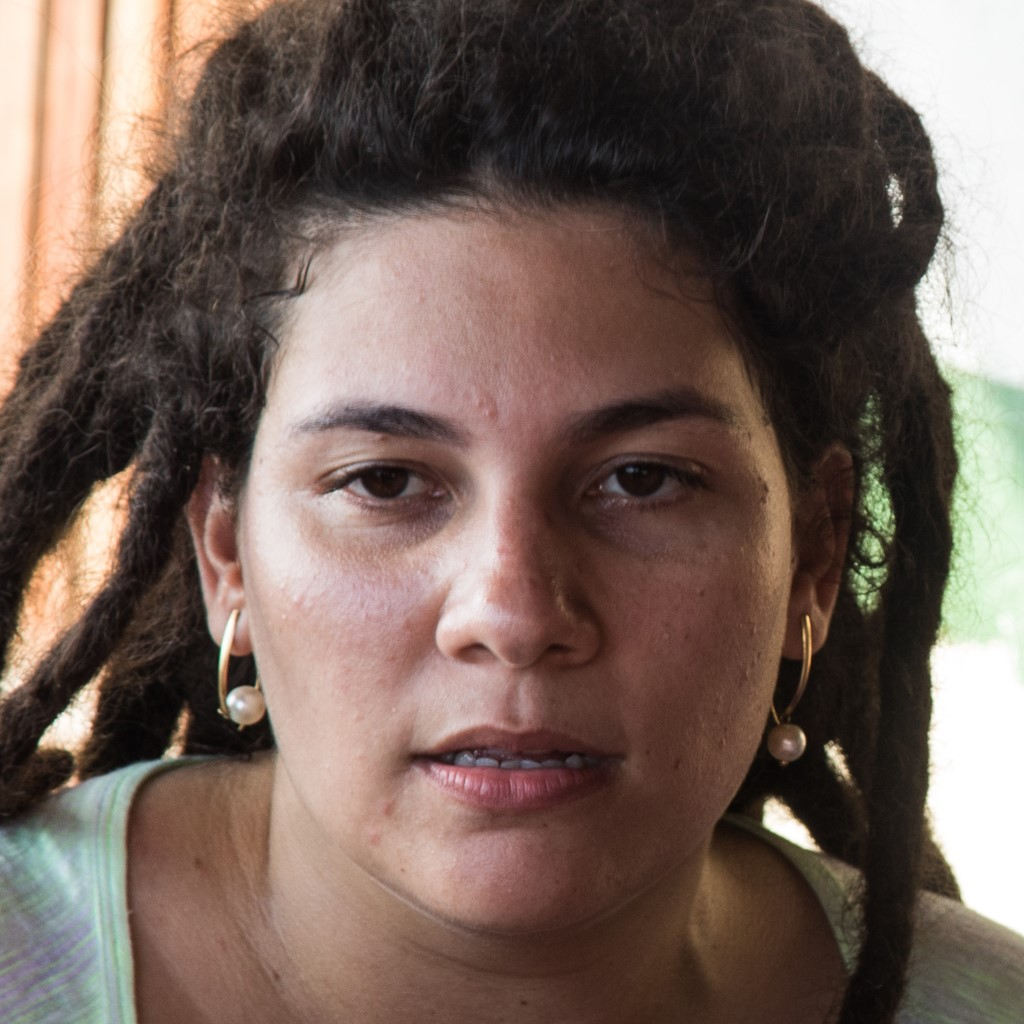sin_mascara: (221, 168, 831, 939)
